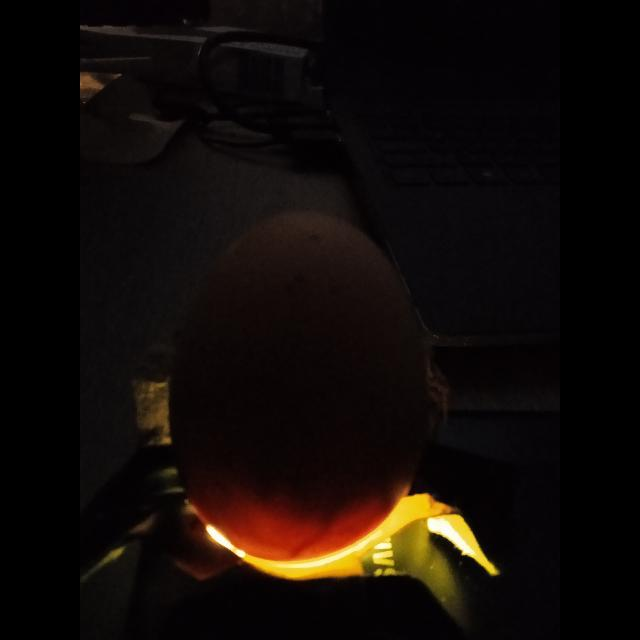Fertile: (159, 199, 423, 575)
